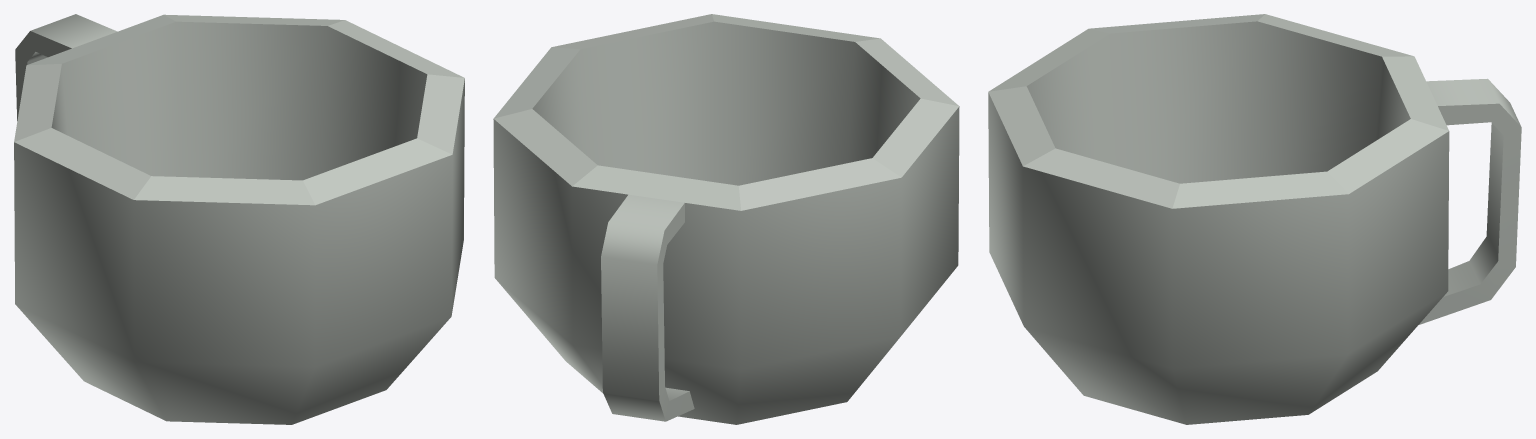
The model's file is Mug_1_A.fbx.
3 views of the same model, side by side, from view 1: azimuth 30°, elevation 25°; view 2: azimuth 150°, elevation 25°; view 3: azimuth 270°, elevation 25° (orthographic).
Parts seen in each view (by area): view 1: Mug_1_A; view 2: Mug_1_A; view 3: Mug_1_A.
Boxes of the visible parts, x1,y1,x2,y2 form: Mug_1_A: (14,14,464,424); Mug_1_A: (493,14,959,424); Mug_1_A: (988,14,1521,424).
Bounding box in the file's own units: 14.83 × 9.06 × 17.16.
